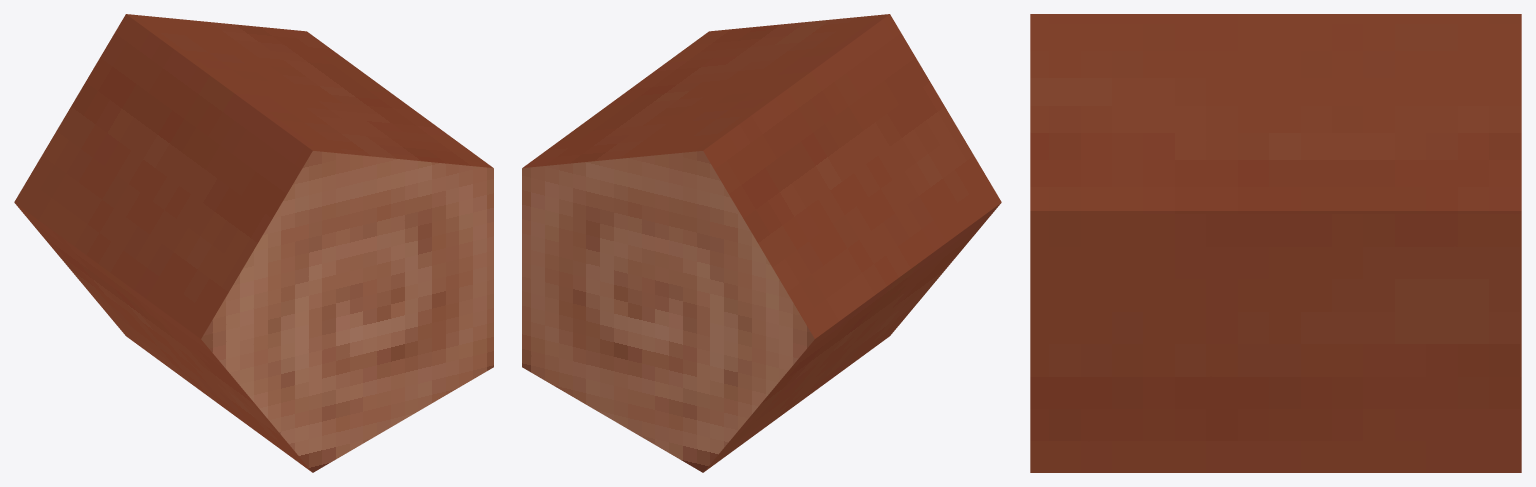
File: SM_AP_Tree_Stump_6.glb
3 renders of one model, left to right at view 1: azimuth 30°, elevation 25°; view 2: azimuth 150°, elevation 25°; view 3: azimuth 270°, elevation 25°, orthographic. The views are drawn at different scales.
Parts seen in each view (by area): view 1: SM_AP_Tree_Stump_6; view 2: SM_AP_Tree_Stump_6; view 3: SM_AP_Tree_Stump_6.
Boxes of the visible parts, box(x1,y1,x2,y2) form: SM_AP_Tree_Stump_6: box(14, 14, 493, 472); SM_AP_Tree_Stump_6: box(522, 14, 1001, 472); SM_AP_Tree_Stump_6: box(1030, 14, 1521, 472).
Bounding box in the file's own units: 1.81 × 1.9 × 2.
Materials: 1 (1 with a texture image).
